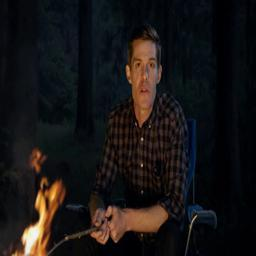fire: (10, 152, 66, 256)
